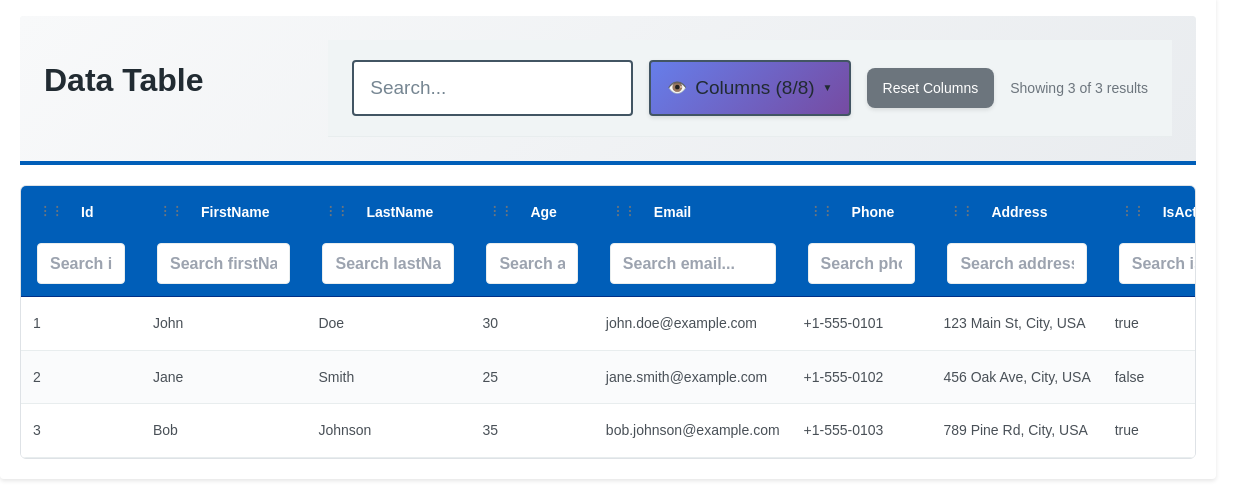
Test: DataTable Component › Sorting Functionality › reverses sort order on second click
Click the text "Age": click(544, 212) [530,204,557,220]
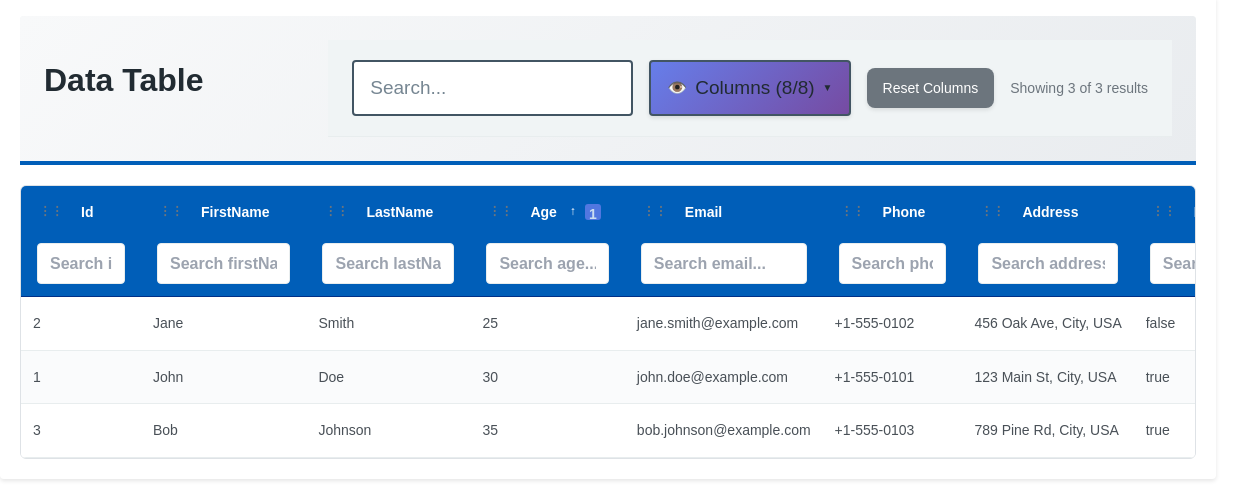
Click the text "Age": click(544, 212) [530,204,601,220]
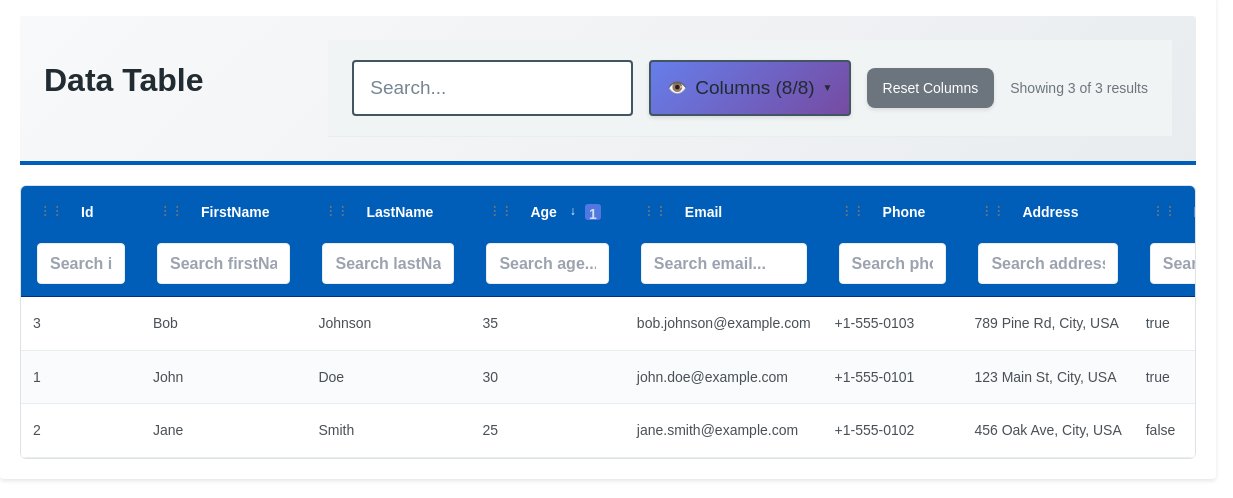
Expected: the row that starts with "Bob" is shown, [153,315,178,331]
